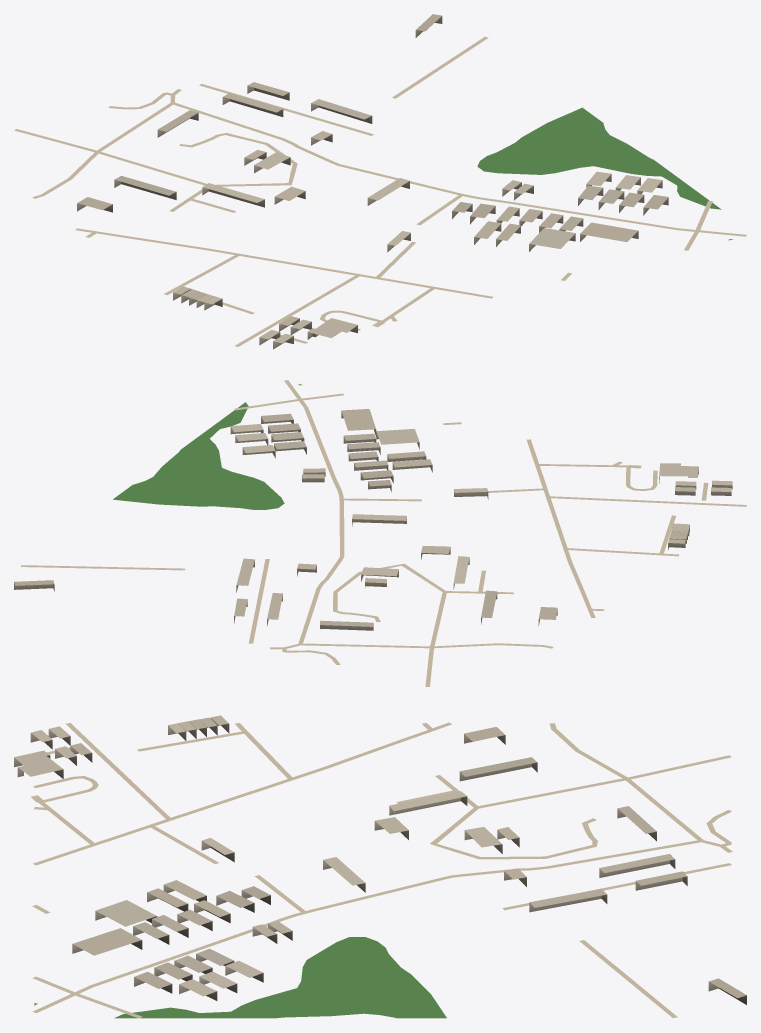
The picture shows the model from 3 angles, top to bottom: view 1: azimuth 30°, elevation 25°; view 2: azimuth 150°, elevation 25°; view 3: azimuth 270°, elevation 25°; orthographic projection. The views are drawn at different scales.
Parts seen in each view (by area): view 1: ground, building; view 2: ground, building; view 3: ground, building.
Boxes of the visible parts, x1,y1,x2,y2 form: ground: [14, 36, 746, 346]; building: [77, 14, 668, 349]; ground: [21, 380, 746, 686]; building: [14, 409, 732, 630]; ground: [31, 722, 732, 1018]; building: [14, 715, 746, 1004].
Size of the model in its own units: 503 by 8 by 526.
